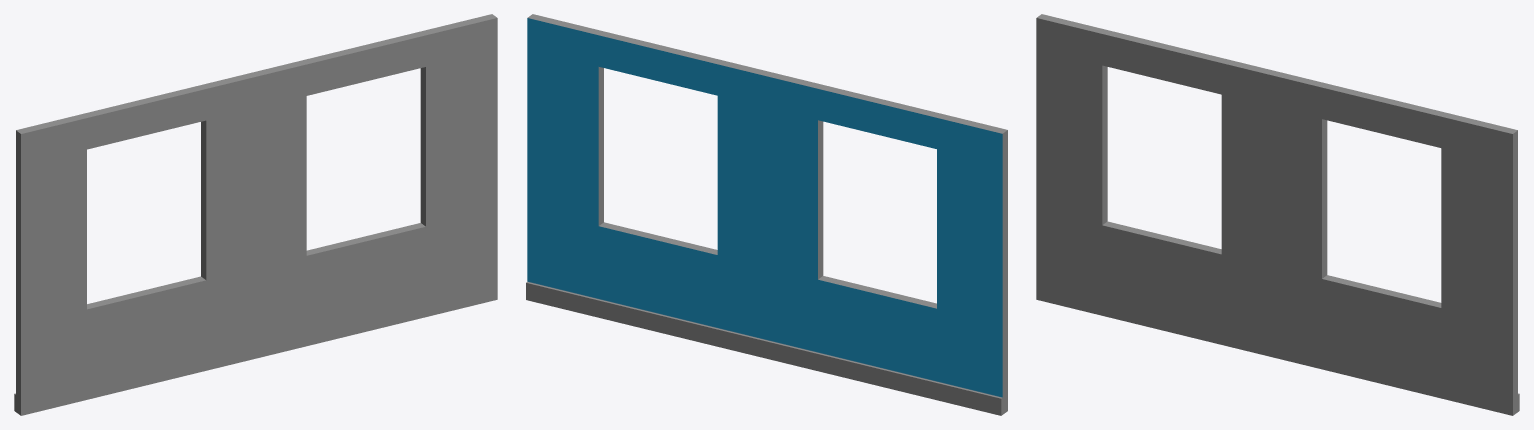
Rendered from Wall 2.FBX.
The picture shows the model from 3 angles, left to right: view 1: azimuth 30°, elevation 25°; view 2: azimuth 150°, elevation 25°; view 3: azimuth 330°, elevation 25°; orthographic projection.
Visible parts, largest first — view 1: Wall 2; view 2: Wall 2; view 3: Wall 2.
Boxes of the visible parts, <box> form: Wall 2: <box>14,14,497,415</box>; Wall 2: <box>526,14,1007,415</box>; Wall 2: <box>1036,14,1519,415</box>.
Bounding box in the file's own units: 461 × 261 × 11.22.
2 materials, 1 textured.
